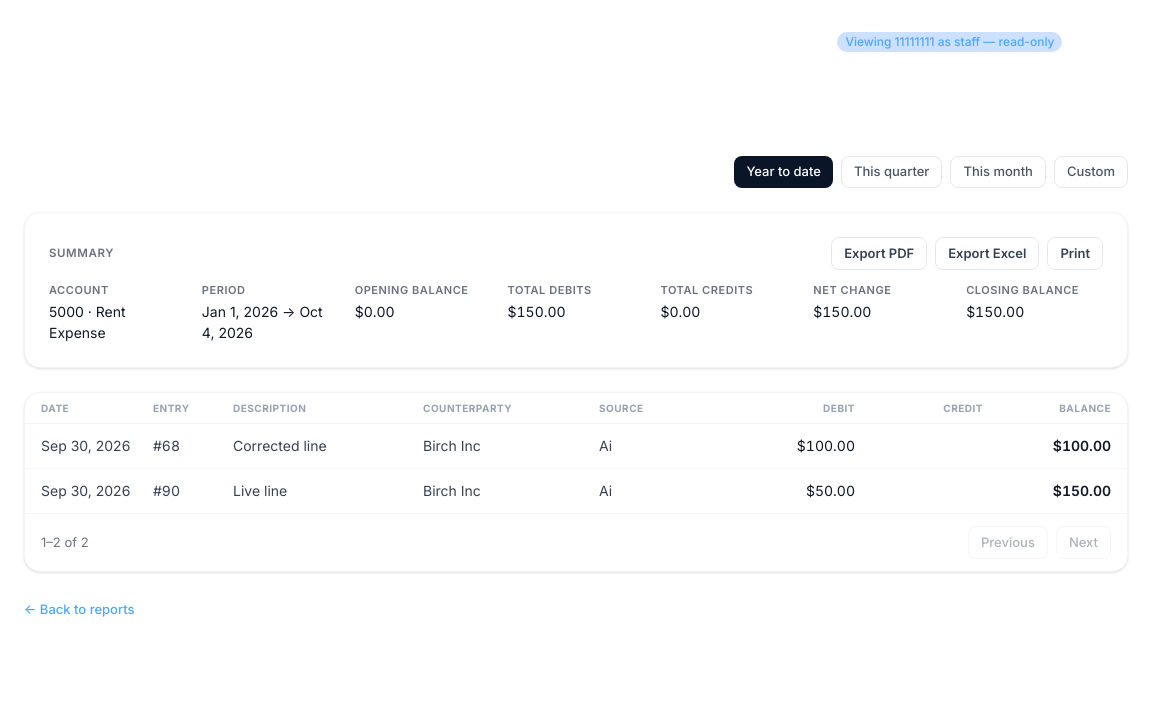
staff account ledger — writes on the live entry only (D-S85-13) › opens the live entry, read by id from the staff detail endpoint, and offers the writes on it
Click the text "Corrected line". click: x=312, y=446
box: [217,423,407,468]
(page scrolled)
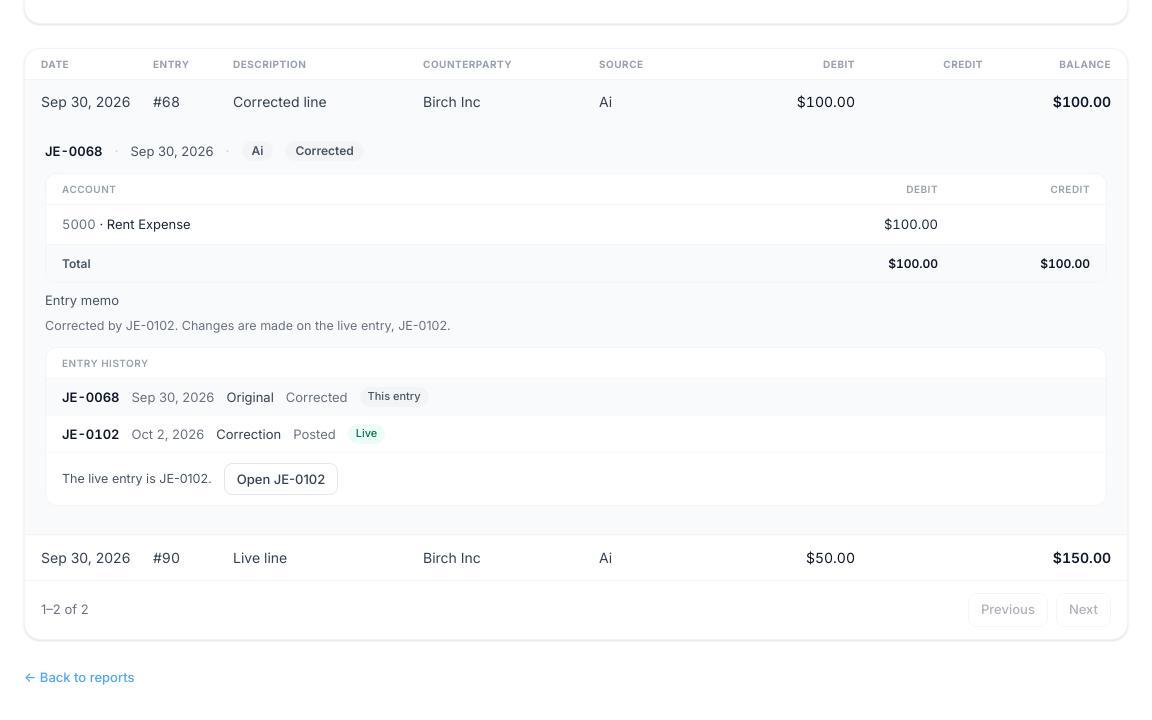
Click the button "Open JE-0102". click: x=281, y=479
box: [224,463,338,496]
(page scrolled)
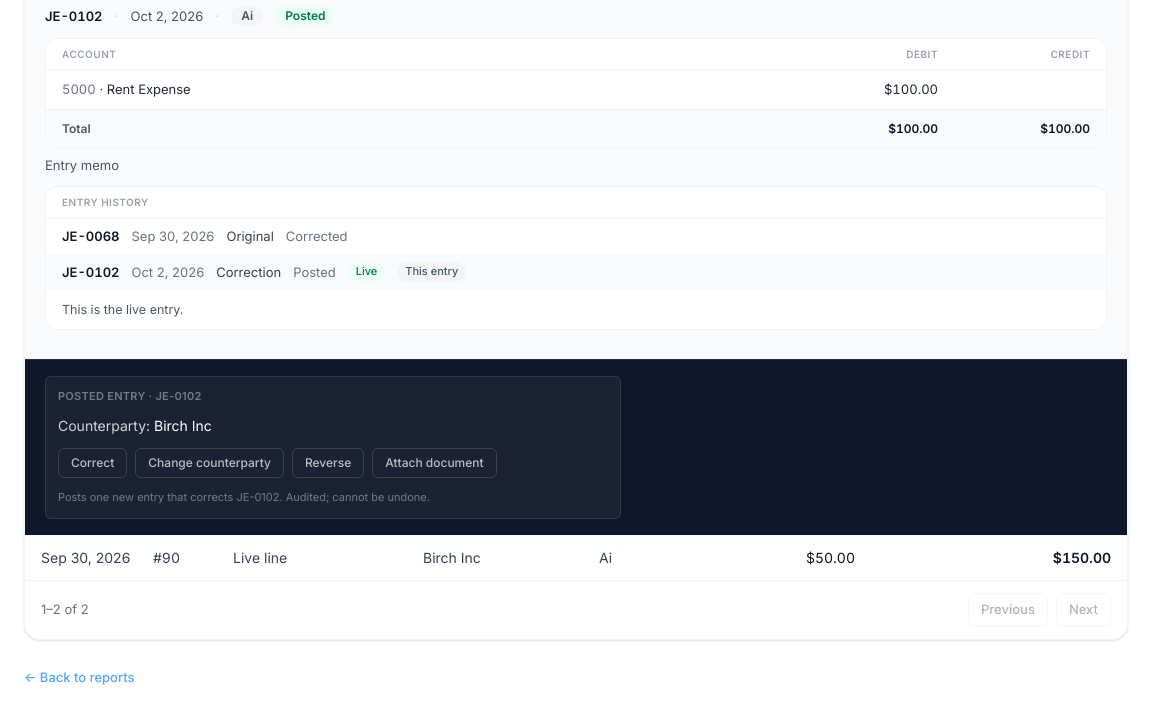
Expected: the button "Correct" is shown, [58,448,127,478]
Expected: the text "This is the live entry." is shown, [62,301,183,319]
